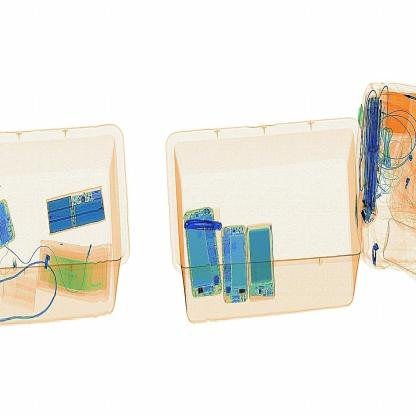knife: (164, 210, 227, 240)
